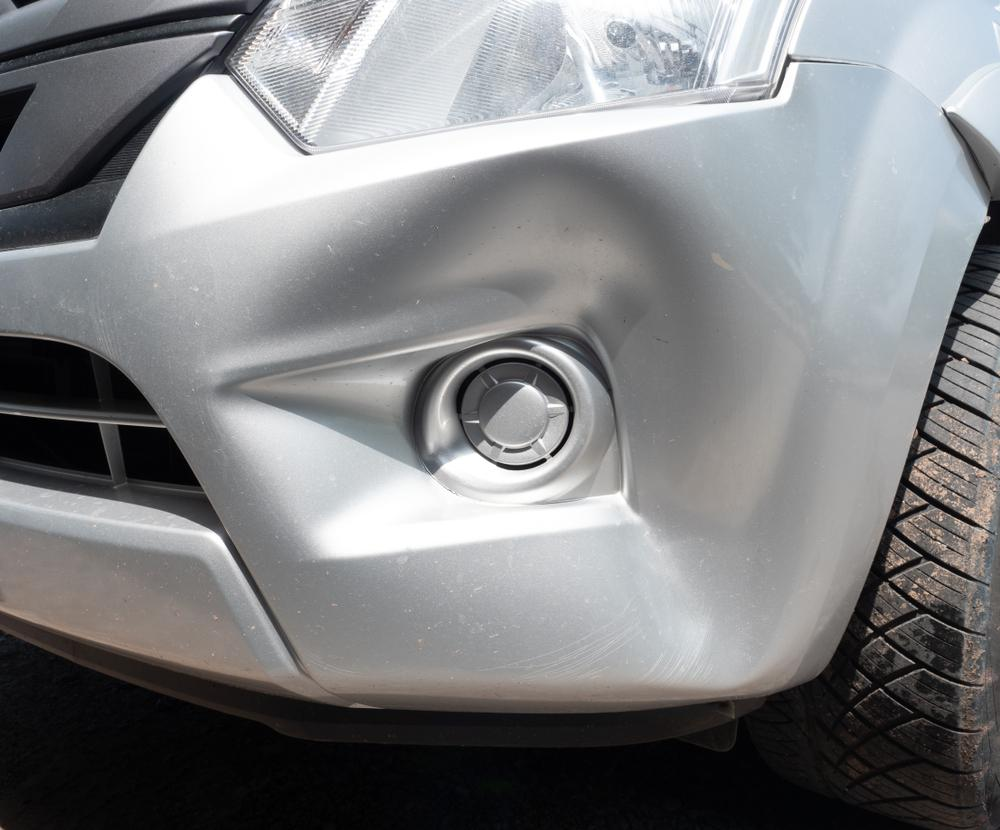dent: (368, 163, 794, 691)
scratch: (483, 584, 704, 689)
